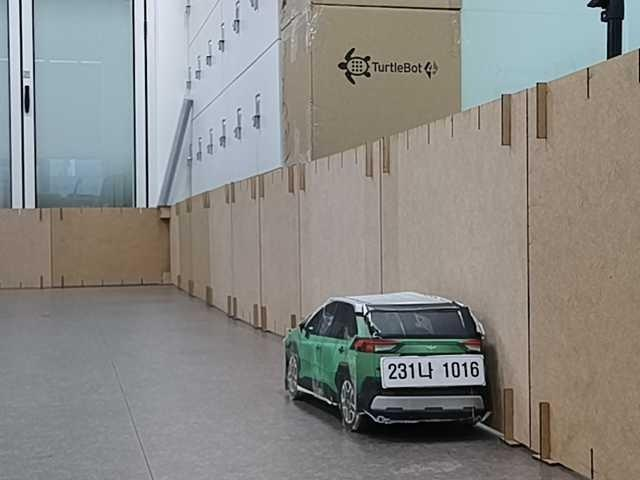car: (284, 291, 487, 428)
id: (380, 353, 488, 388)
